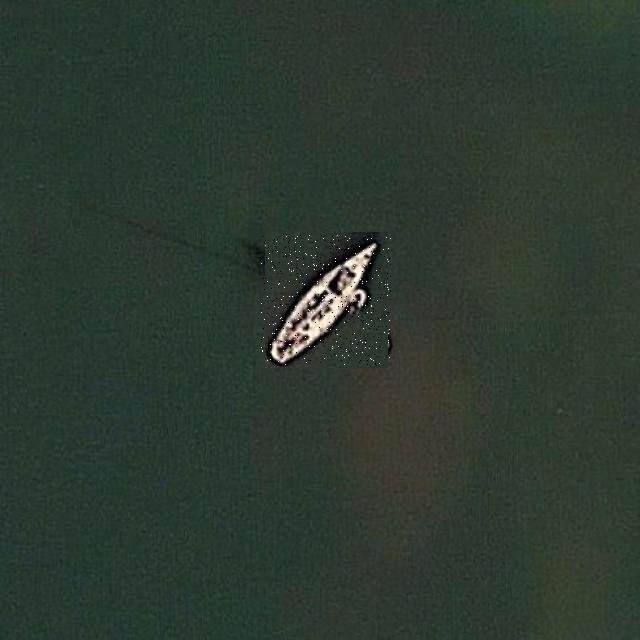boat: (261, 235, 391, 365)
